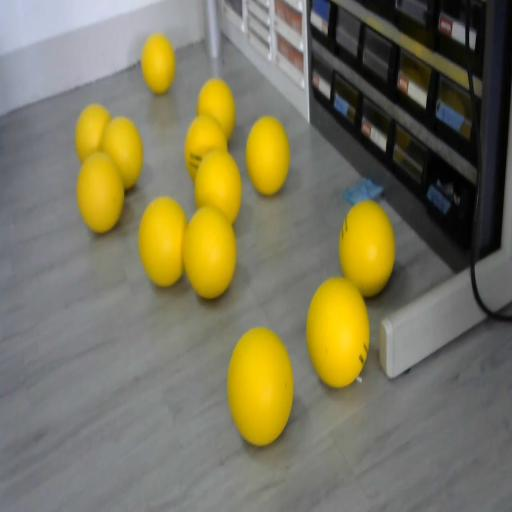FUEL: (226, 325, 295, 444), (304, 274, 370, 387), (338, 200, 396, 297), (138, 195, 188, 286), (76, 152, 125, 234), (193, 148, 243, 226), (245, 116, 291, 195), (196, 78, 236, 142), (74, 104, 112, 163), (141, 33, 175, 94)
